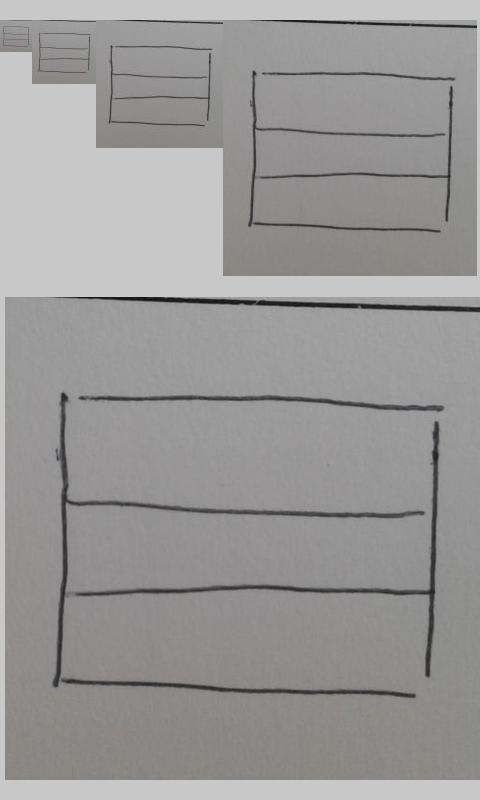list_view: (54, 391, 444, 709), (250, 70, 456, 234), (108, 44, 213, 127), (38, 32, 91, 74), (2, 25, 30, 48)
